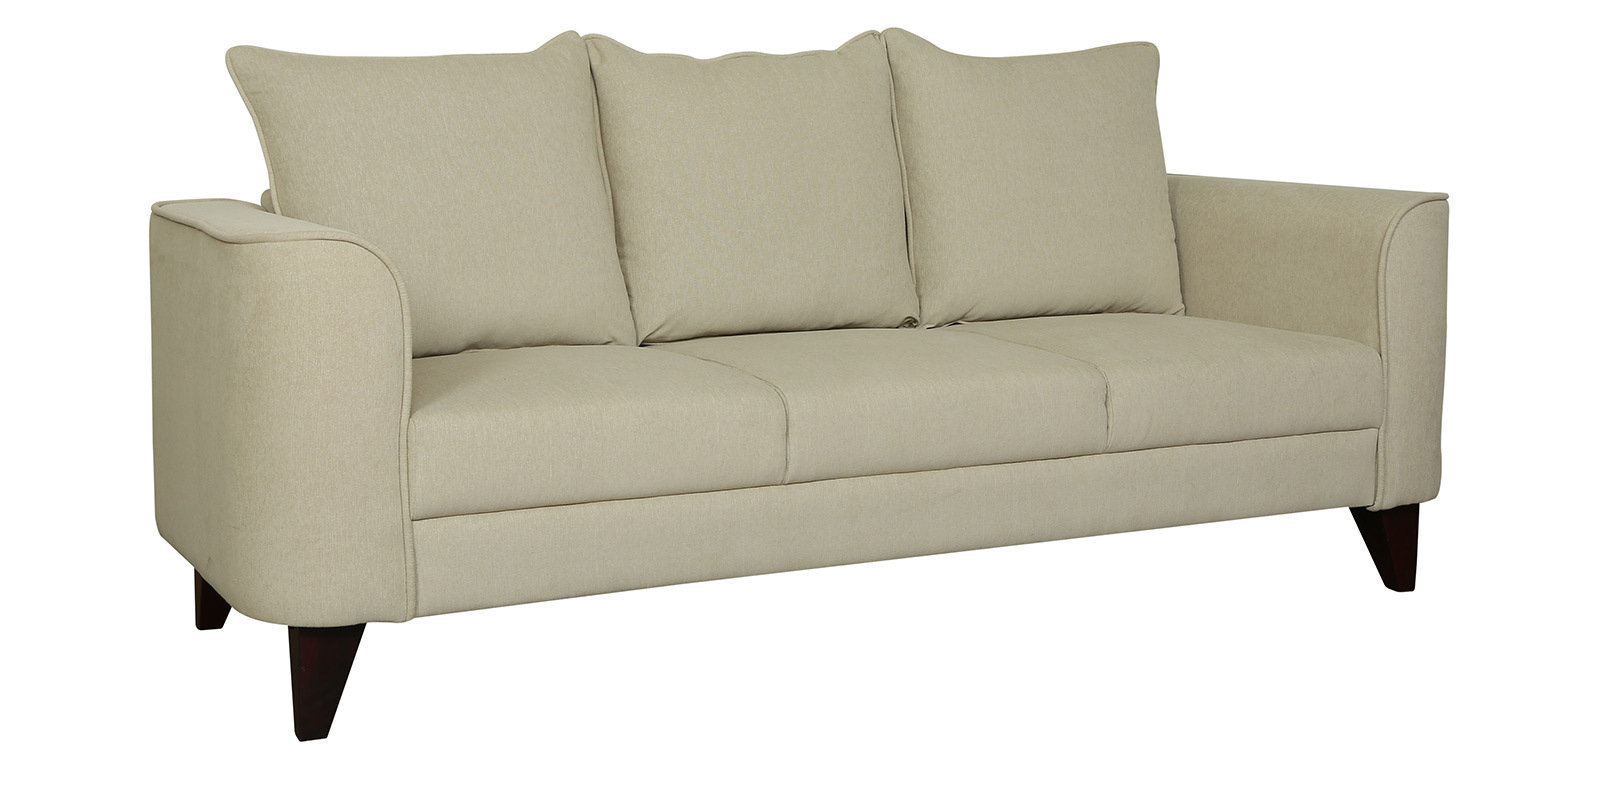Lara Three Seater Sofa in Beige Colour by CasaCraft: (151, 24, 1452, 742)
